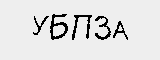А: (112, 19, 130, 44)
Б: (49, 14, 69, 41)
З: (95, 11, 111, 42)
П: (72, 12, 93, 44)
У: (30, 13, 49, 36)
